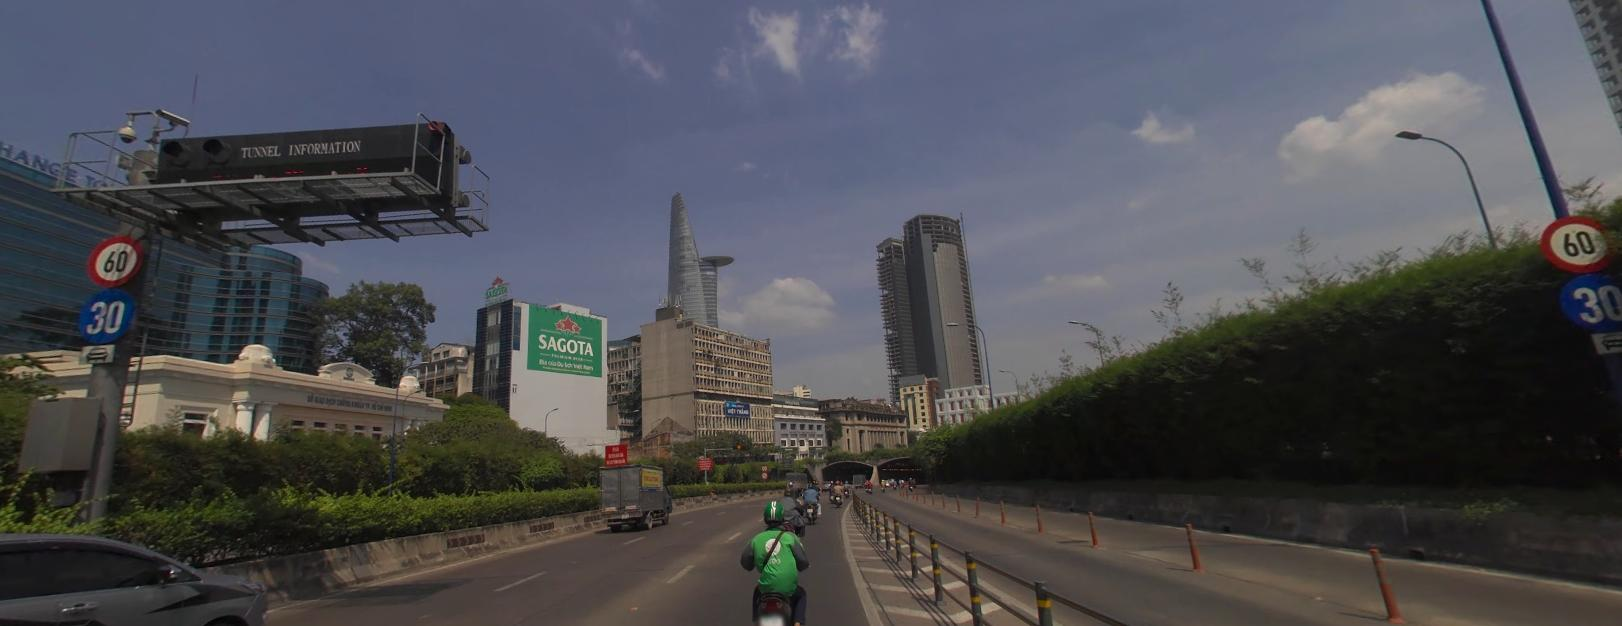Cam con lai: (760, 463, 767, 469), (760, 471, 767, 477)
Gioi han toc do: (87, 233, 142, 284)
Hieu lenh: (78, 287, 134, 343)
